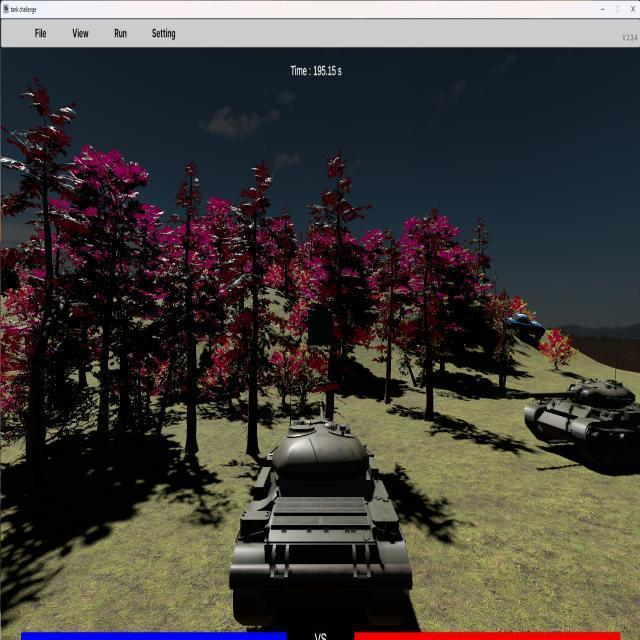Tank: (231, 414, 413, 625), (507, 377, 640, 467)
car: (503, 312, 546, 340)
